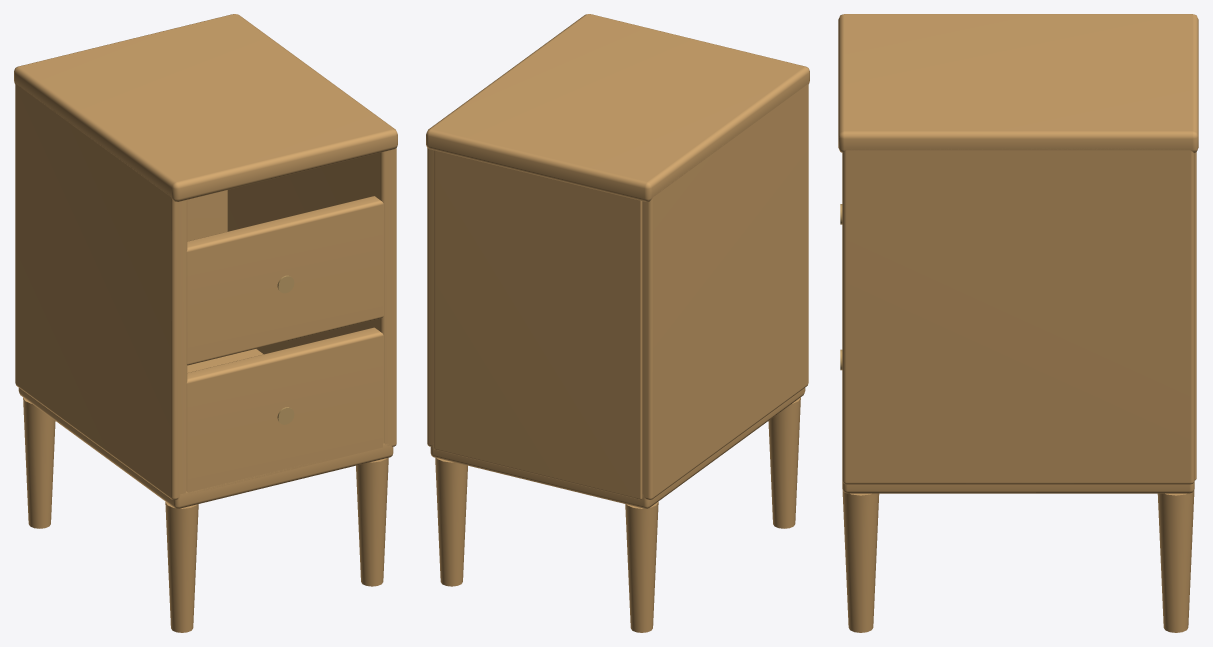
The model's file is apartment-bedside-slim-drawer.glb.
3 renders of one model, left to right at view 1: azimuth 30°, elevation 25°; view 2: azimuth 150°, elevation 25°; view 3: azimuth 270°, elevation 25°, orthographic. The views are drawn at different scales.
Parts seen in each view (by area): view 1: apartment-bedside-slim-drawer authored assembly; view 2: apartment-bedside-slim-drawer authored assembly; view 3: apartment-bedside-slim-drawer authored assembly.
Boxes of the visible parts, bbox=[...] form: apartment-bedside-slim-drawer authored assembly: bbox=[14, 14, 397, 632]; apartment-bedside-slim-drawer authored assembly: bbox=[426, 14, 809, 632]; apartment-bedside-slim-drawer authored assembly: bbox=[838, 14, 1198, 632].
Bounding box in the file's own units: 0.28 × 0.54 × 0.35.
